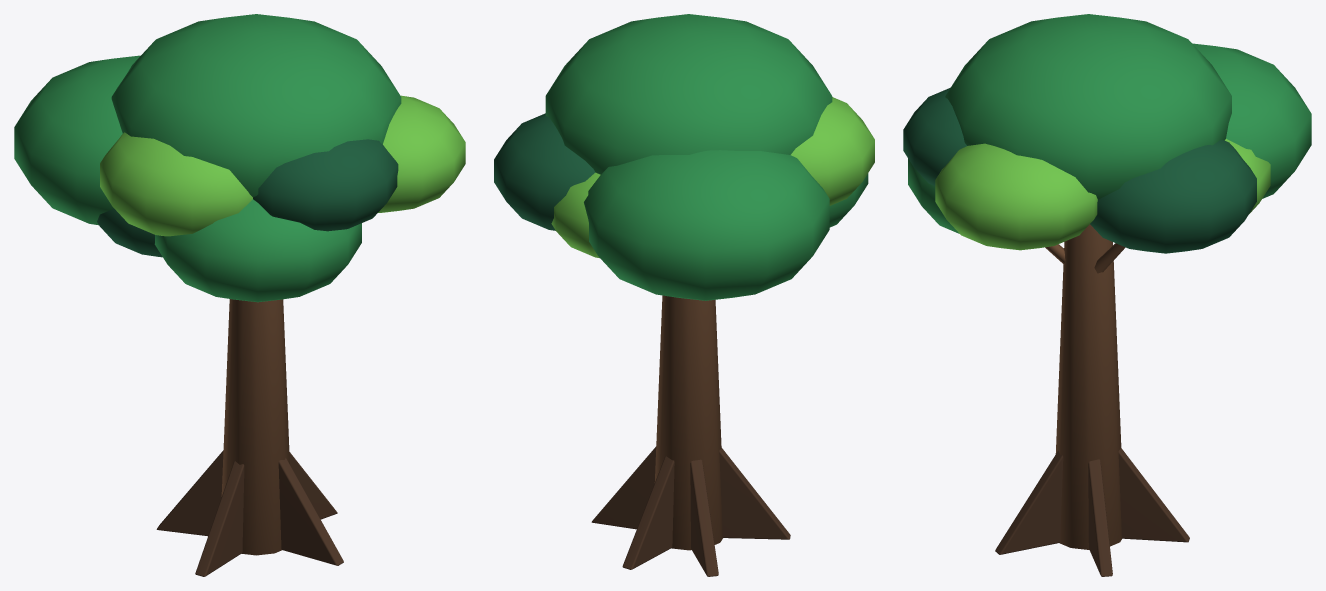
The model's file is jungle_canopy_tree.glb.
The picture shows the model from 3 angles, left to right: view 1: azimuth 30°, elevation 25°; view 2: azimuth 150°, elevation 25°; view 3: azimuth 270°, elevation 25°; orthographic projection.
Visible parts, largest first — view 1: CanopyTree; view 2: CanopyTree; view 3: CanopyTree.
Part boxes in pixels (x1,y1,x2,y2): CanopyTree: (14,14,465,576); CanopyTree: (494,14,874,576); CanopyTree: (903,14,1311,576).
Size of the model in its own units: 9.08 by 13 by 9.59.
